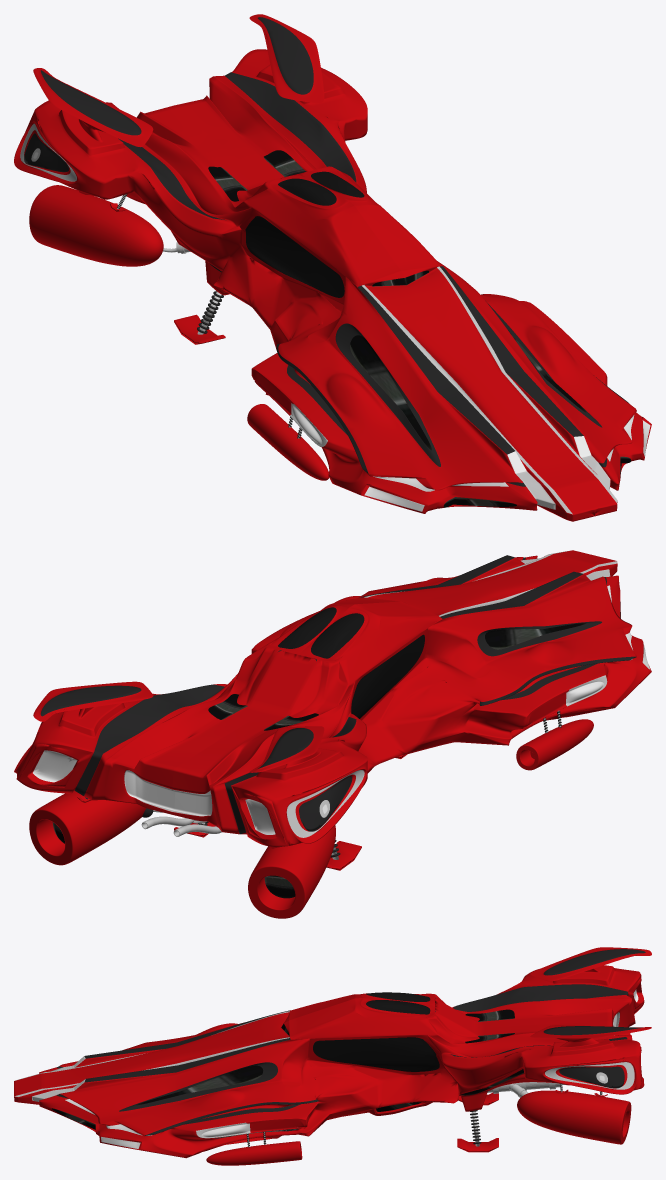
The model's file is FIRE BOLT.fbx.
3 views of the same model, one above another, from view 1: azimuth 30°, elevation 25°; view 2: azimuth 150°, elevation 25°; view 3: azimuth 270°, elevation 25° (orthographic). The views are drawn at different scales.
Visible parts, largest first — view 1: Cube, Cube.003, Cube.008, Cube.004; view 2: Cube, Cube.003, Cube.008, Cylinder, Cube.004; view 3: Cube, Cube.003, Cube.008, Cube.004, Cylinder.
Part boxes in pixels (box(x1,y1,x2,y2)): Cube: box(14, 14, 651, 521); Cube.003: box(29, 185, 163, 266); Cube.008: box(247, 404, 328, 480); Cube.004: box(174, 291, 225, 344); Cube: box(14, 550, 651, 847); Cube.003: box(29, 791, 335, 918); Cube.008: box(516, 719, 593, 770); Cylinder: box(141, 816, 221, 836); Cube.004: box(174, 821, 361, 870); Cube: box(14, 947, 651, 1158); Cube.003: box(517, 1033, 631, 1144); Cube.008: box(206, 1141, 302, 1165); Cube.004: box(457, 1092, 498, 1152); Cylinder: box(487, 1082, 567, 1093).
Bounding box in the file's own units: 453 × 269 × 1146.
